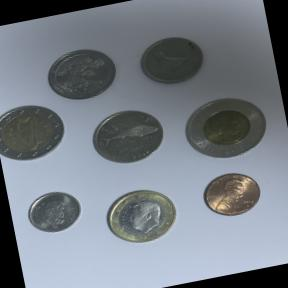coin: (172, 81, 279, 172), (96, 176, 190, 254), (83, 97, 174, 175), (39, 38, 124, 106), (194, 162, 272, 226), (0, 96, 69, 167), (20, 181, 90, 240)
